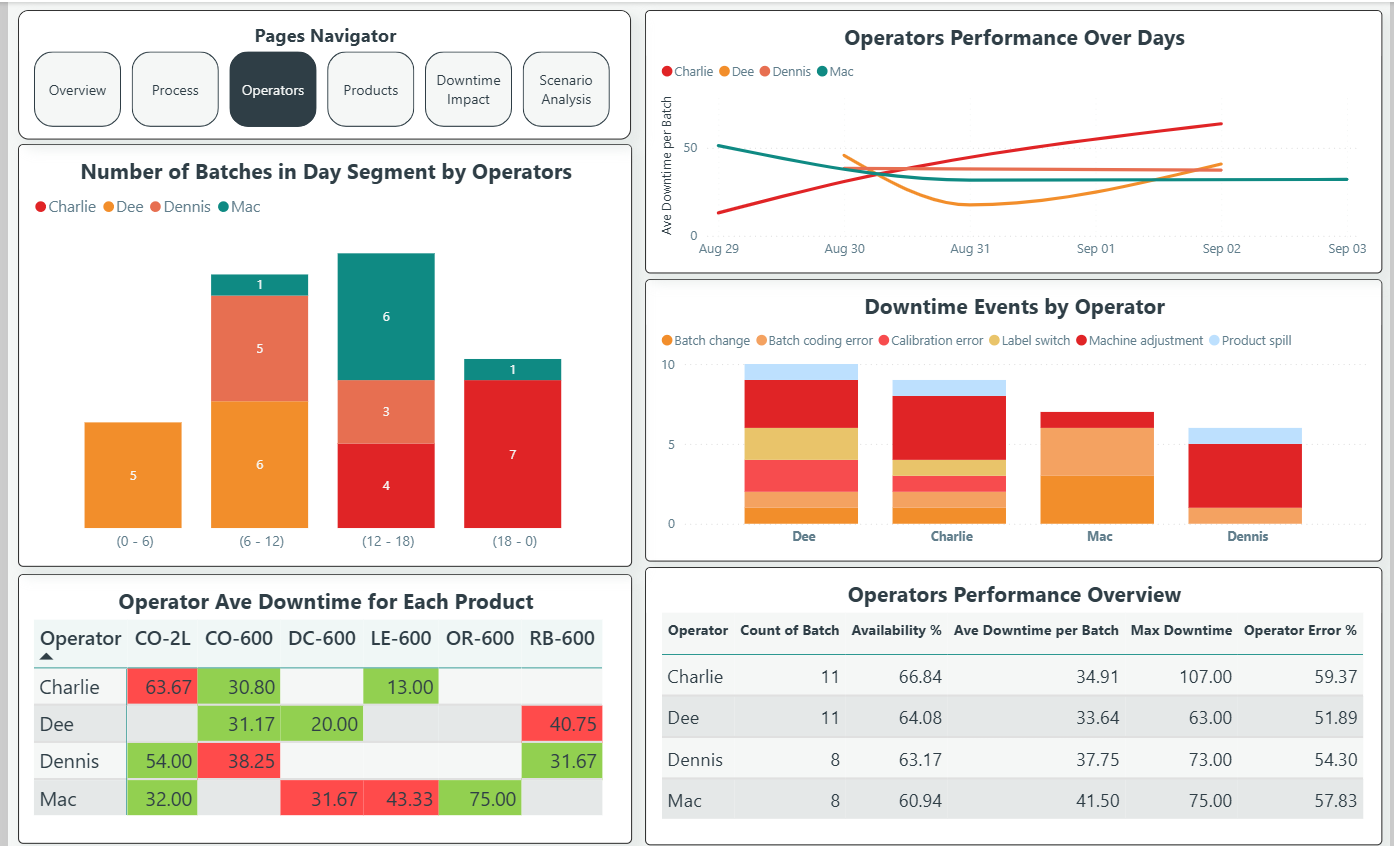

This screenshot's page, from the dashboard's own definition file:
{"tool":"powerbi","page":{"name":"Operators","canvas":[1300,800],"ordinal":2},"visuals":[{"type":"columnChart","title":"Downtime Events by Operator","fields":{"Category":["Line productivity.Operator"],"Series":["Downtime factors.Description"],"Y":["#Measures.Downtime Events"]},"box":[597.6,260.7,693.6,266.4],"z":0},{"type":"pivotTable","title":"Operator Ave Downtime for Each Product","fields":{"Rows":["Line productivity.Operator"],"Columns":["Products.Product"],"Values":["#Measures.Ave Downtime per Batch"]},"box":[9.5,538.4,577.9,254.1],"z":1000},{"type":"tableEx","title":"Operators Performance Overview","fields":{"Values":["Line productivity.Operator","Line productivity.Batch","#Measures.Availability","#Measures.Ave Downtime per Batch","#Measures.Max Downtime","#Measures.Operator Error %"]},"box":[597.6,531.8,693.6,261.6],"z":2000},{"type":"columnChart","title":"Number of Batches in Day Segment by Operators","fields":{"Series":["Line productivity.Operator"],"Category":["Line productivity.Day segmentation"],"Y":["#Measures.Number of Batches"]},"box":[9.5,133.6,577.9,398.1],"z":3000},{"type":"lineChart","title":"Operators Performance Over Days","fields":{"Category":["Line productivity.Date.Variation.Date Hierarchy.Month"],"Y":["#Measures.Ave Downtime per Batch"],"Series":["Line productivity.Operator"]},"box":[597.6,7.5,693.6,248.5],"z":4000},{"type":"pageNavigator","title":"Pages Navigator","box":[9.8,7.8,576.9,121.6],"z":7000}]}

Visuals, with their boxes in screenshot pixels (x1, y1, x2, y2), scaled from the page's 1300x800 canvas onto the 1394x846 screenshot:
"Downtime Events by Operator" columnChart: rect(641, 276, 1385, 557)
"Operator Ave Downtime for Each Product" pivotTable: rect(10, 569, 630, 838)
"Operators Performance Overview" tableEx: rect(641, 562, 1385, 839)
"Number of Batches in Day Segment by Operators" columnChart: rect(10, 141, 630, 562)
"Operators Performance Over Days" lineChart: rect(641, 8, 1385, 271)
"Pages Navigator" pageNavigator: rect(11, 8, 629, 137)
